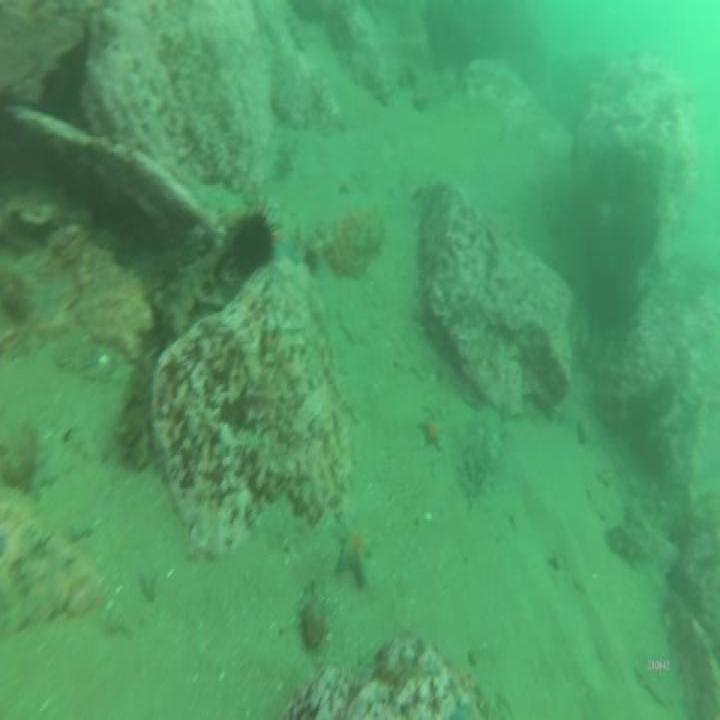echinus: (223, 194, 282, 284)
holothurian: (120, 247, 220, 471)
starfish: (333, 517, 376, 594), (415, 413, 447, 455), (271, 222, 290, 254)
